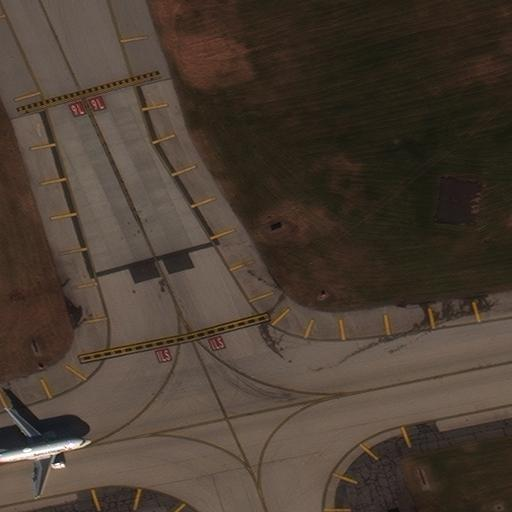Medium Civil Transport: (0, 408, 92, 496)
